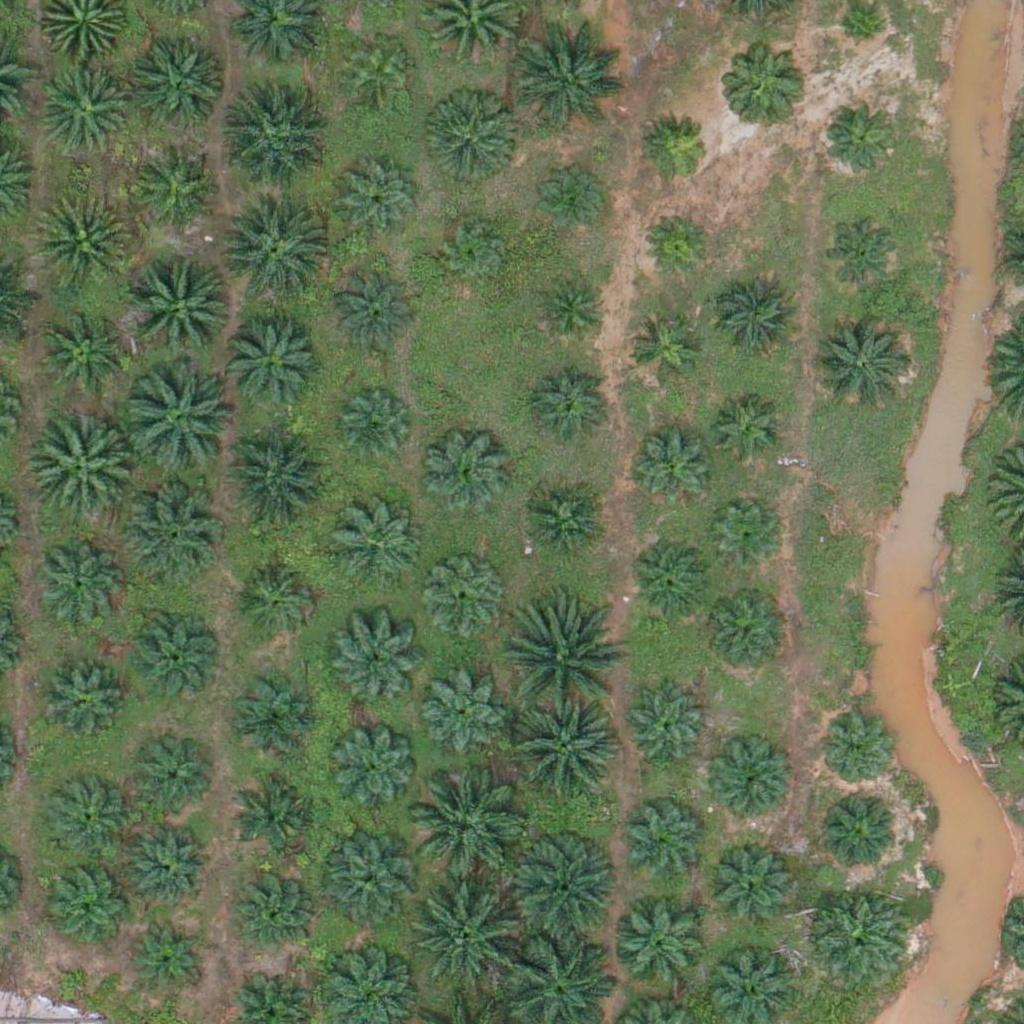Kelapa_Sawit: (501, 828, 614, 942), (508, 605, 621, 718), (213, 430, 326, 543), (122, 367, 235, 480), (128, 252, 240, 366), (506, 698, 618, 811), (413, 883, 525, 996), (409, 771, 521, 884), (22, 411, 134, 524), (214, 81, 326, 194), (215, 195, 327, 308), (516, 21, 628, 134), (811, 315, 911, 416), (809, 884, 909, 985), (318, 838, 418, 939), (222, 317, 322, 418), (119, 484, 219, 585), (31, 192, 131, 293), (130, 36, 230, 137), (615, 895, 715, 995), (422, 86, 522, 186), (628, 421, 716, 510), (820, 209, 908, 298), (526, 365, 614, 453), (514, 481, 602, 569), (698, 588, 786, 676), (621, 798, 709, 886), (330, 624, 418, 712), (330, 725, 418, 813), (32, 655, 120, 743), (130, 610, 218, 698), (231, 556, 319, 644), (420, 557, 508, 645), (42, 62, 130, 150), (38, 313, 126, 401), (136, 137, 224, 225), (329, 270, 417, 358), (336, 152, 424, 240), (720, 35, 808, 123), (714, 274, 802, 362), (627, 536, 714, 624), (620, 684, 707, 772), (709, 741, 796, 829), (816, 787, 903, 875), (705, 836, 792, 924), (47, 859, 134, 947), (43, 774, 130, 862), (34, 538, 121, 626), (128, 735, 215, 823), (129, 819, 216, 907), (227, 863, 314, 951), (235, 766, 322, 854), (227, 669, 314, 757), (422, 428, 509, 516), (419, 670, 506, 758), (333, 501, 420, 589), (818, 91, 905, 179), (337, 391, 412, 467), (535, 162, 610, 238), (710, 501, 785, 577), (130, 916, 205, 992), (819, 714, 894, 790), (533, 274, 608, 350), (640, 112, 715, 187), (341, 33, 416, 108), (625, 312, 700, 387), (439, 217, 514, 292), (713, 396, 788, 471), (640, 208, 715, 283), (837, 6, 887, 56)
